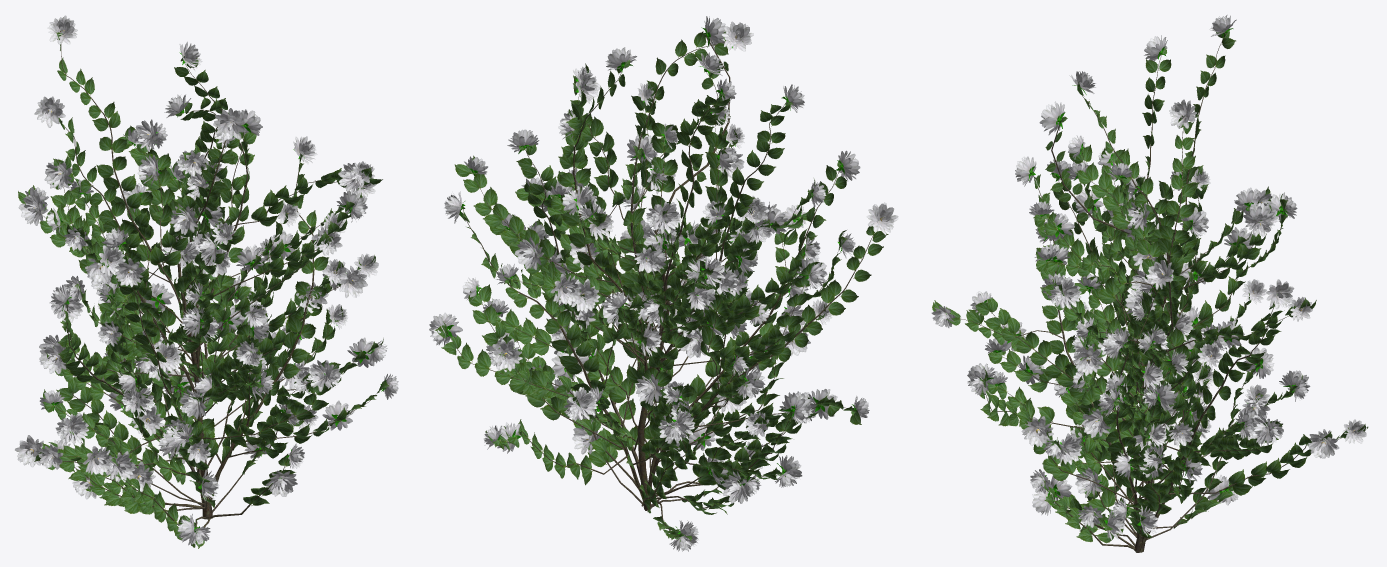
File: dwarf_snowflake_mock_orange_flowers_spring.glb
The picture shows the model from 3 angles, left to right: view 1: azimuth 30°, elevation 25°; view 2: azimuth 150°, elevation 25°; view 3: azimuth 270°, elevation 25°; orthographic projection. The views are drawn at different scales.
Parts seen in each view (by area): view 1: Leaf_Green_largeF_2, Flower_largeF_1, bark_01_largeF_0; view 2: Leaf_Green_largeF_2, Flower_largeF_1, bark_01_largeF_0; view 3: Leaf_Green_largeF_2, Flower_largeF_1, bark_01_largeF_0.
Part boxes in pixels (box(x1,y1,x2,y2)): Leaf_Green_largeF_2: box(18, 32, 389, 548); Flower_largeF_1: box(15, 15, 398, 545); bark_01_largeF_0: box(42, 44, 376, 527); Leaf_Green_largeF_2: box(435, 31, 888, 542); Flower_largeF_1: box(429, 16, 898, 551); bark_01_largeF_0: box(448, 36, 873, 537); Leaf_Green_largeF_2: box(932, 30, 1368, 543); Flower_largeF_1: box(931, 15, 1366, 539); bark_01_largeF_0: box(957, 33, 1341, 552).
Bounding box in the file's own units: 1.91 × 2.44 × 2.
3 materials, 3 textured.
